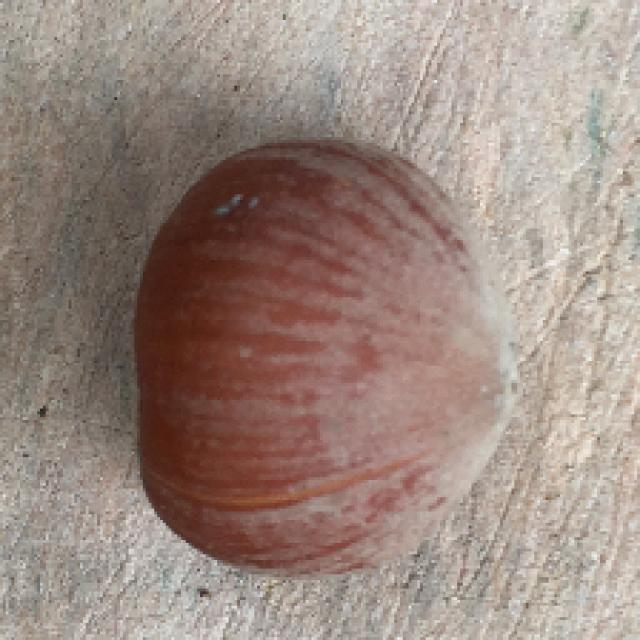qualityHazelnut: (119, 132, 526, 584)
